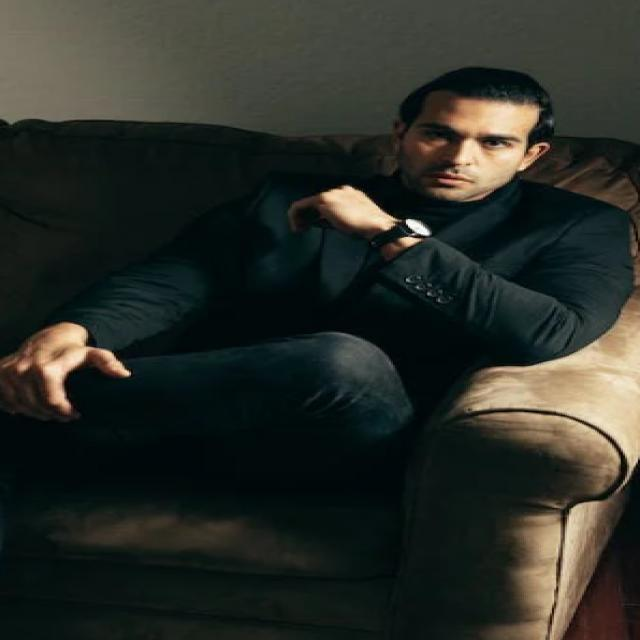Watch: (367, 211, 442, 252)
